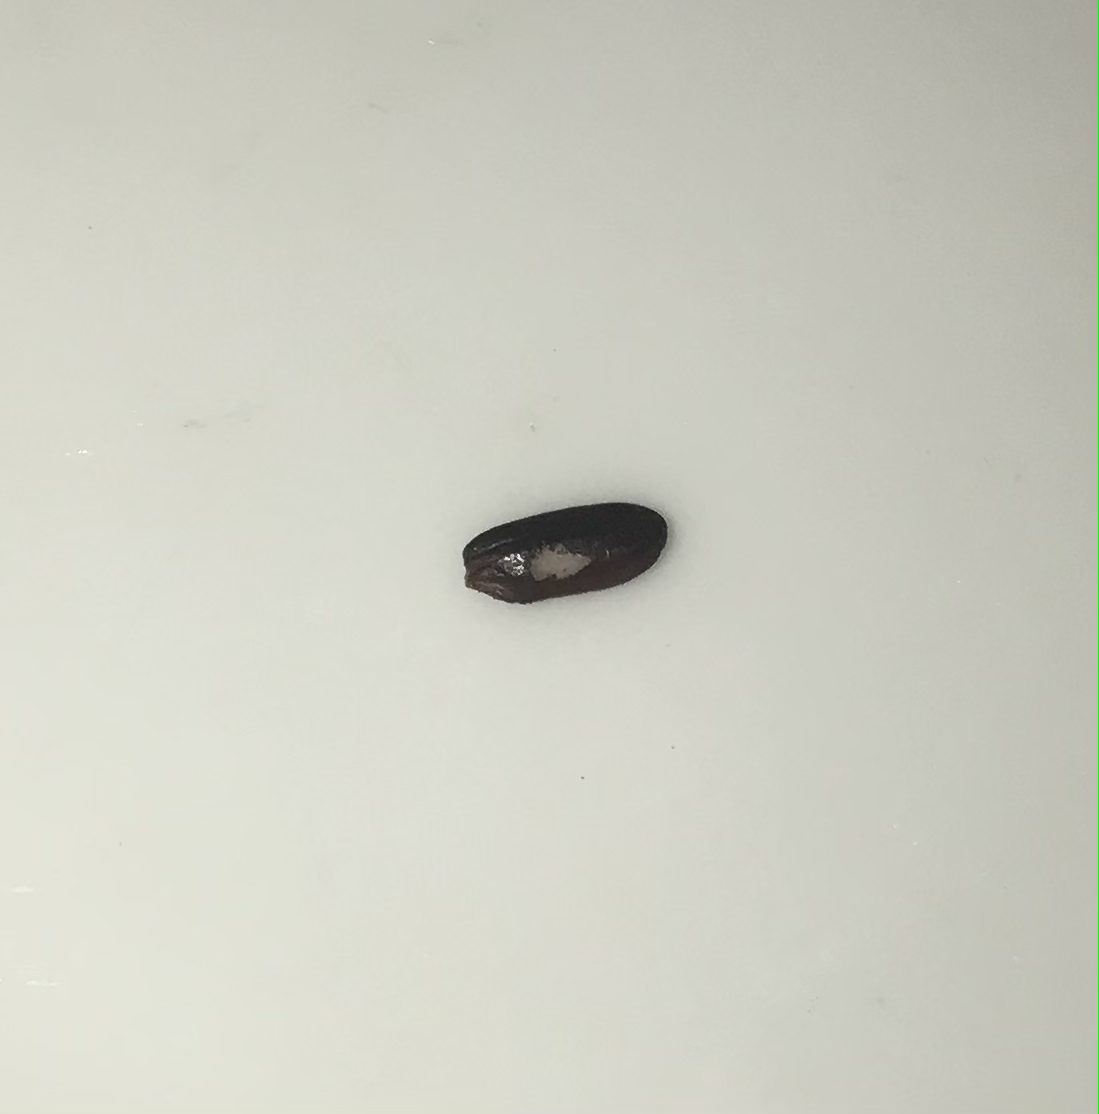Gao Nep Cam: (451, 478, 683, 622)
